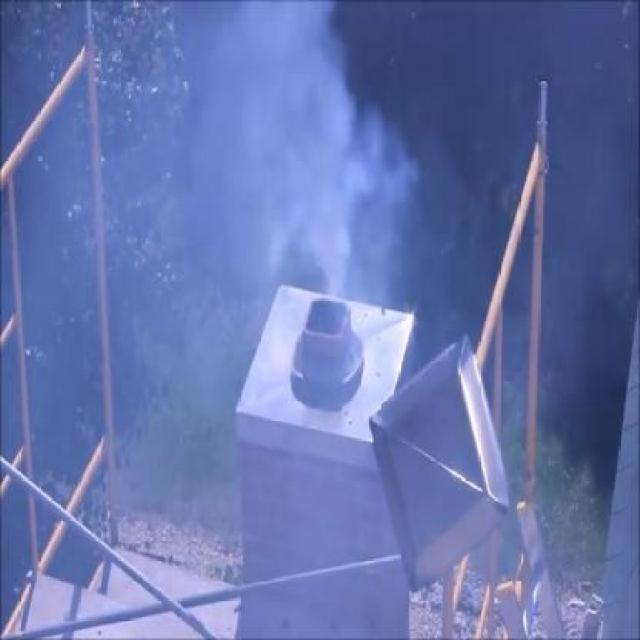smoke: (234, 24, 394, 280)
